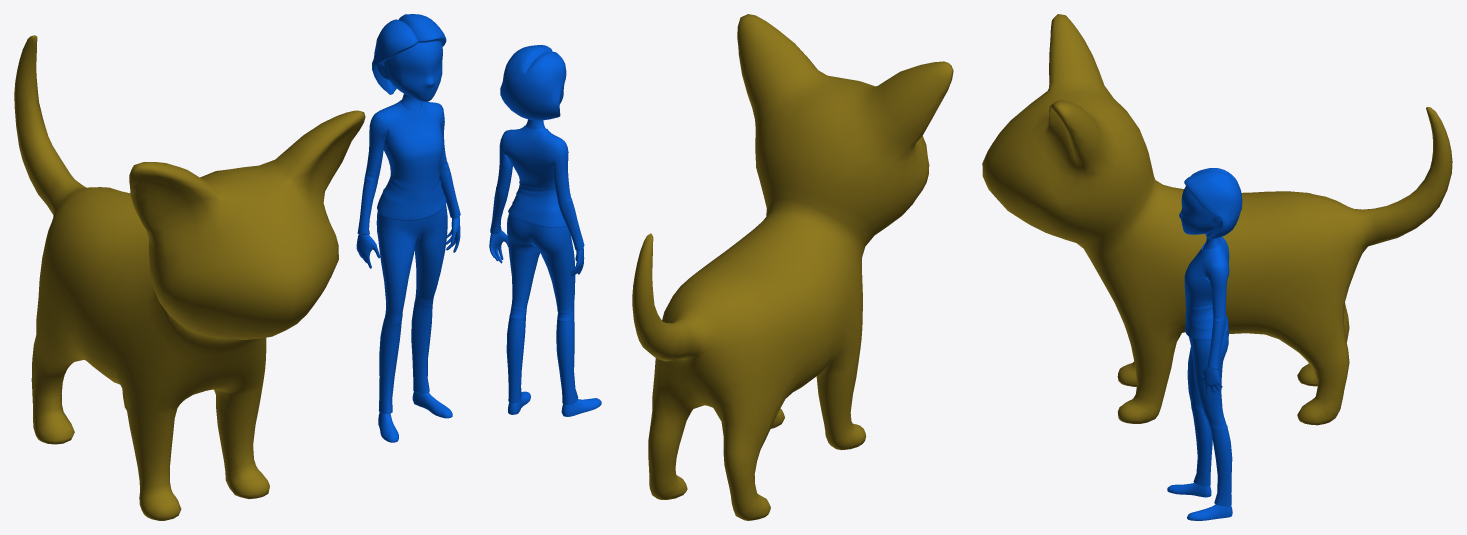
Rendered from catwoman2.glb.
3 views of the same model, side by side, from view 1: azimuth 30°, elevation 25°; view 2: azimuth 150°, elevation 25°; view 3: azimuth 270°, elevation 25° (orthographic). The views are drawn at different scales.
Visible parts, largest first — view 1: mesh_id28, mesh_id36; view 2: mesh_id28, mesh_id36; view 3: mesh_id28, mesh_id36.
Boxes of the visible parts, <box> form: mesh_id28: <box>14,35,365,520</box>; mesh_id36: <box>356,14,460,442</box>; mesh_id28: <box>632,14,953,520</box>; mesh_id36: <box>489,45,601,416</box>; mesh_id28: <box>982,14,1452,425</box>; mesh_id36: <box>1167,168,1242,520</box>.
Size of the model in its own units: 0.6717 by 0.6204 by 0.7685.
Materials: 2 (2 with a texture image).
